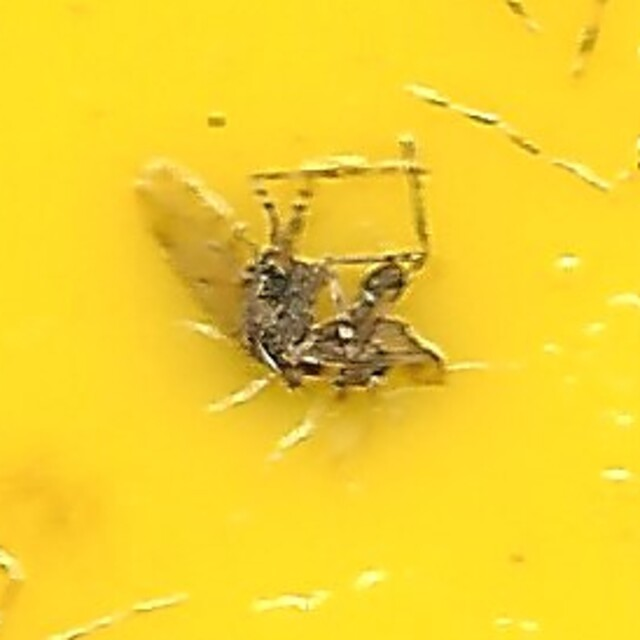Nematocera: (234, 236, 406, 404)
